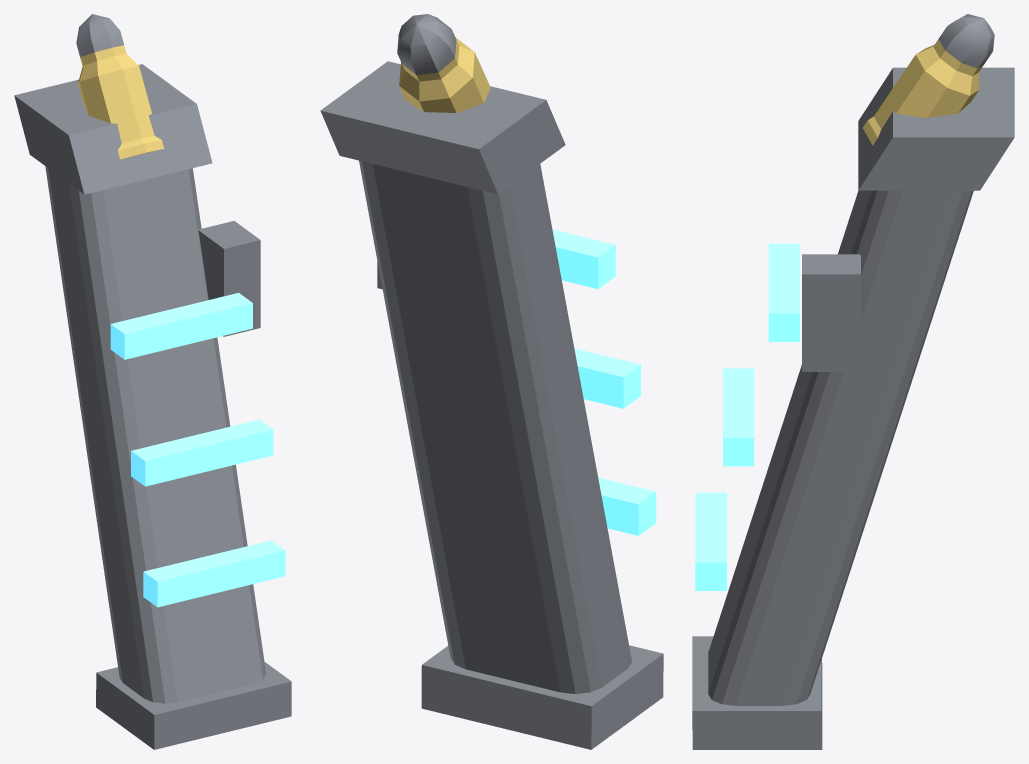
The model's file is pickups-and-collectibles-magazine-pickup-53ff8722__19897.glb.
The picture shows the model from 3 angles, left to right: view 1: azimuth 30°, elevation 25°; view 2: azimuth 150°, elevation 25°; view 3: azimuth 270°, elevation 25°; orthographic projection. The views are drawn at different scales.
Visible parts, largest first — view 1: body/iron, body/gem, body/gold; view 2: body/iron, body/gem, body/gold; view 3: body/iron, body/gem, body/gold.
Boxes of the visible parts, bbox=[...] form: body/iron: bbox=[14, 14, 291, 749]; body/gem: bbox=[110, 293, 285, 607]; body/gold: bbox=[78, 45, 164, 159]; body/iron: bbox=[320, 14, 663, 749]; body/gem: bbox=[552, 229, 656, 535]; body/gold: bbox=[399, 37, 490, 112]; body/iron: bbox=[692, 14, 1014, 749]; body/gem: bbox=[695, 243, 799, 590]; body/gold: bbox=[863, 39, 983, 145].
Bounding box in the file's own units: 0.102 × 0.3911 × 0.1643.
